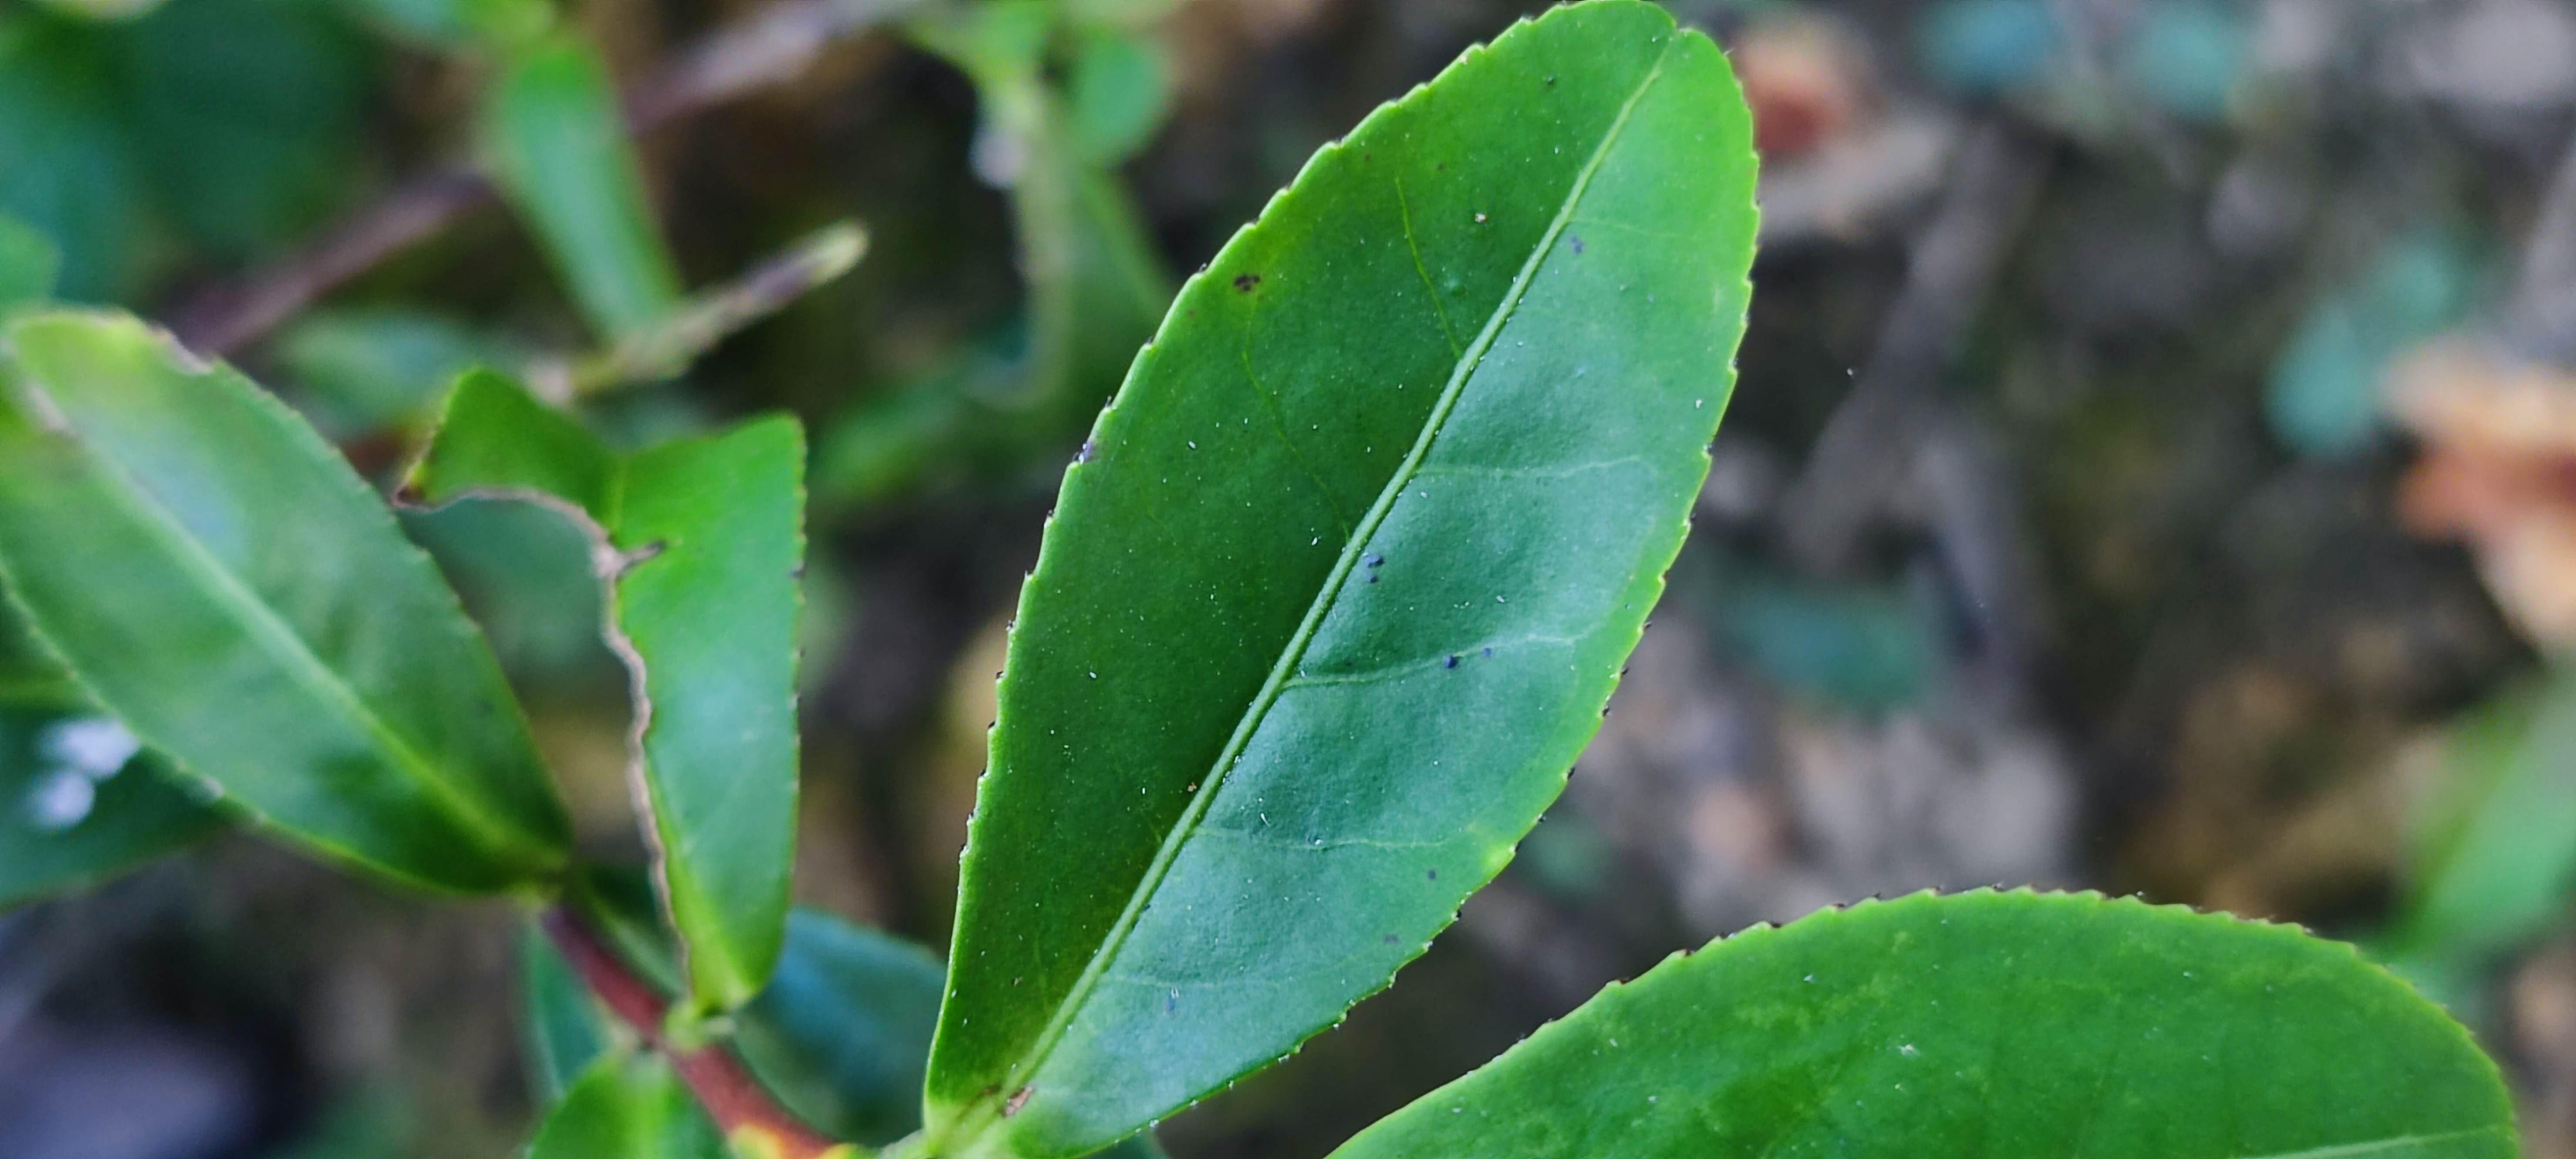chihuo_high: (383, 368, 812, 1028)
healthy: (1327, 885, 2530, 1152)
tanju_low: (922, 0, 1769, 1157), (0, 300, 572, 898)
